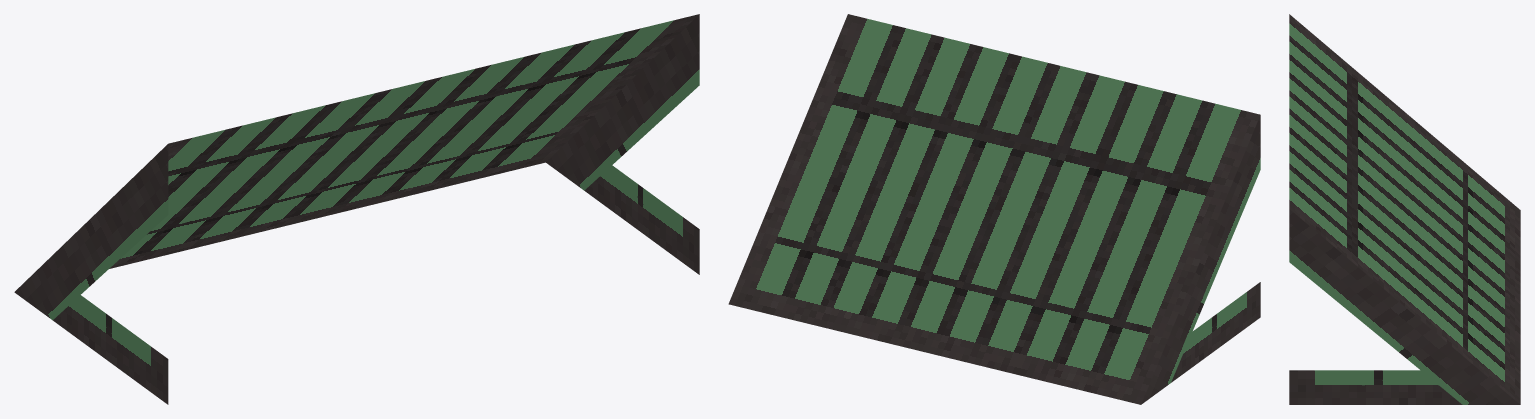
File: detail_awning_small.glb
3 renders of one model, left to right at view 1: azimuth 30°, elevation 25°; view 2: azimuth 150°, elevation 25°; view 3: azimuth 270°, elevation 25°, orthographic. The views are drawn at different scales.
Visible parts, largest first — view 1: detail-awning-small; view 2: detail-awning-small; view 3: detail-awning-small.
Part boxes in pixels (x1=…): detail-awning-small: x1=14, y1=14, x2=699, y2=404; detail-awning-small: x1=728, y1=14, x2=1260, y2=404; detail-awning-small: x1=1289, y1=14, x2=1520, y2=404.
Size of the model in its own units: 0.5978 by 0.2808 by 0.3.
1 material, 1 textured.
